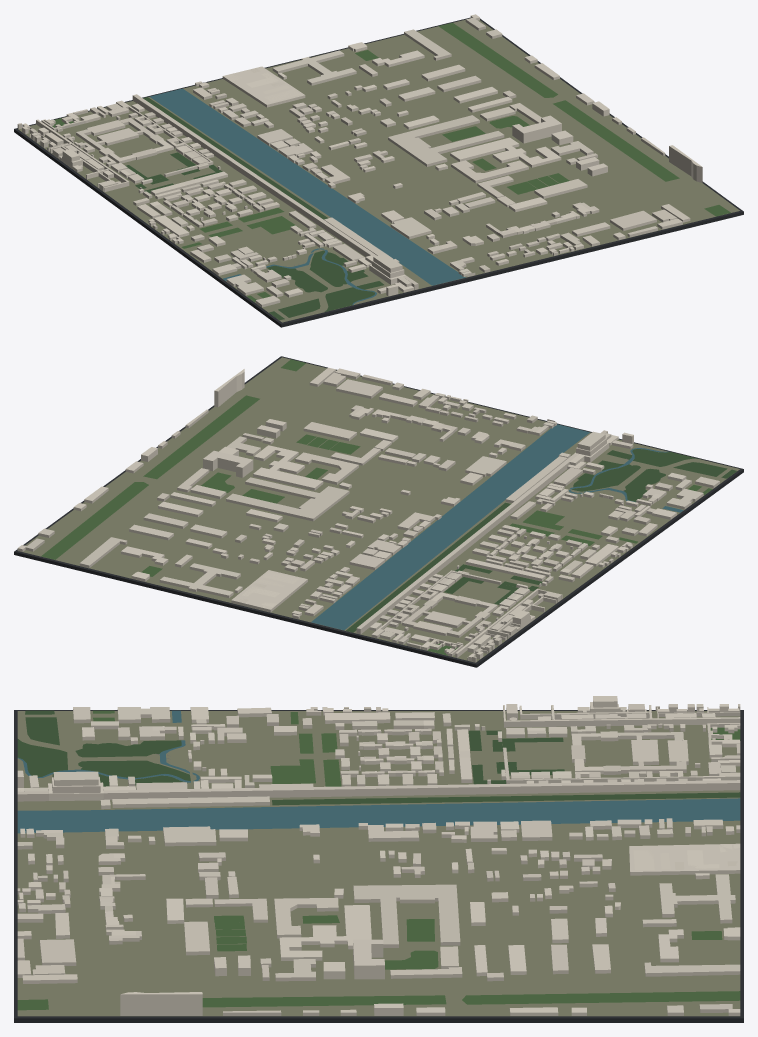
File: geo-sandbox.glb
The picture shows the model from 3 angles, top to bottom: view 1: azimuth 30°, elevation 25°; view 2: azimuth 150°, elevation 25°; view 3: azimuth 270°, elevation 25°; orthographic projection. The views are drawn at different scales.
Visible parts, largest first — view 1: terrain, buildings, green, water, plinth; view 2: terrain, buildings, green, water, plinth; view 3: terrain, buildings, green, water, plinth.
Part boxes in pixels (box(x1,y1,x2,y2)): terrain: box(18, 19, 739, 322); buildings: box(17, 14, 702, 307); green: box(52, 22, 730, 320); water: box(149, 88, 465, 305); plinth: box(14, 17, 743, 327); terrain: box(18, 357, 739, 662); buildings: box(17, 367, 719, 662); green: box(41, 359, 736, 655); water: box(311, 424, 683, 630); plinth: box(14, 356, 743, 667); terrain: box(17, 711, 740, 1016); buildings: box(17, 696, 740, 1015); green: box(17, 710, 740, 1010); water: box(17, 710, 740, 833); plinth: box(14, 710, 743, 1022).
Bounding box in the file's own units: 909 × 37.1 × 909.
